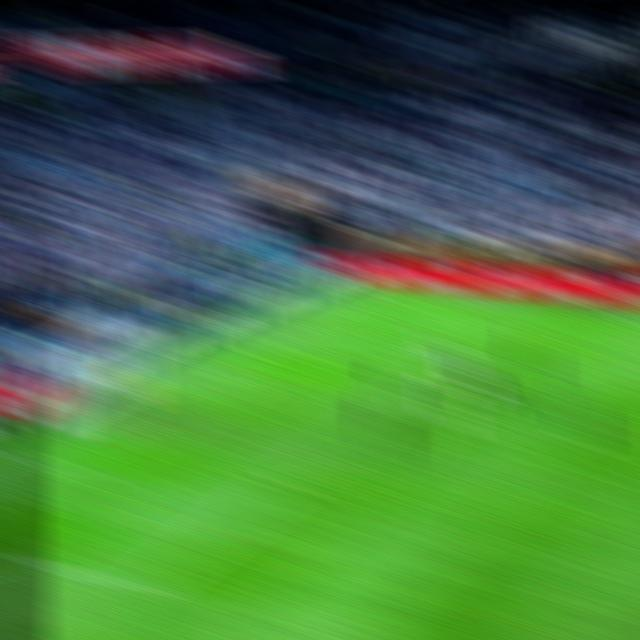bigarea_bottom_inner: (122, 565, 168, 600)
bigarea_top_inner: (457, 338, 494, 363)
bigarea_top_outter: (246, 315, 284, 338)
bottom_arc_area_intersection: (267, 466, 311, 496)
corner: (327, 276, 366, 299)
smallarea_bottom_inner: (63, 450, 106, 483)
smallarea_top_inner: (233, 363, 272, 389)
smallarea_top_outter: (165, 354, 203, 379)
top_arc_area_intersection: (384, 391, 420, 415)
